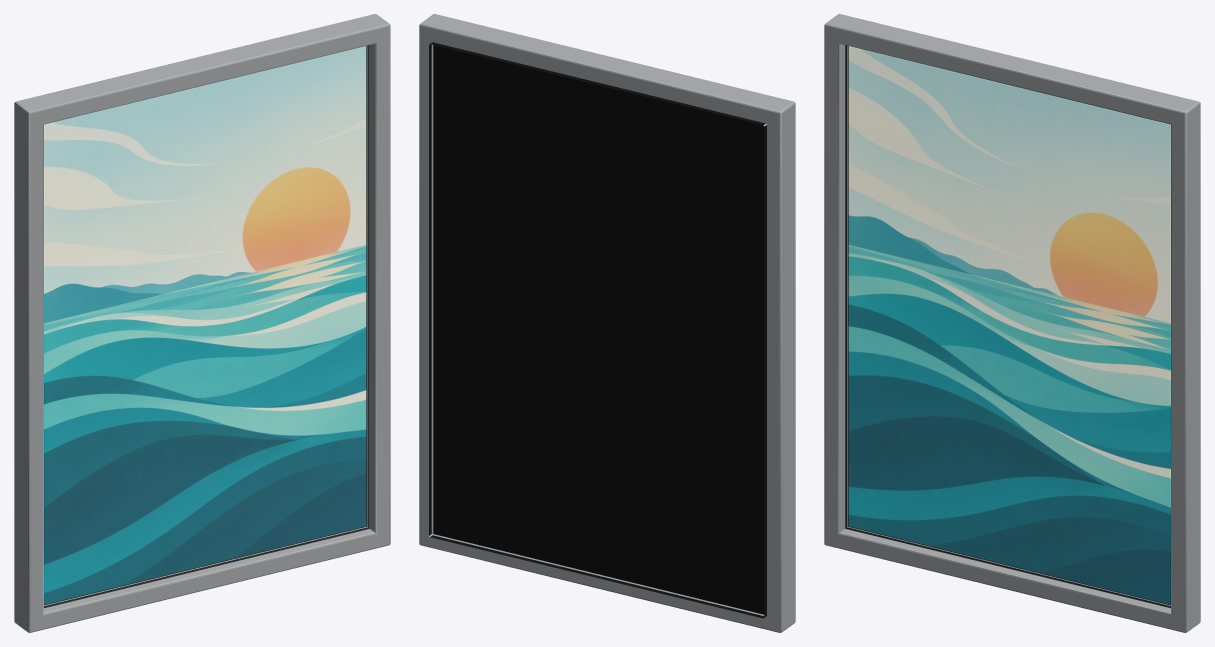
Rendered from gteki_poster_lightbox_01.glb.
The picture shows the model from 3 angles, left to right: view 1: azimuth 30°, elevation 25°; view 2: azimuth 150°, elevation 25°; view 3: azimuth 330°, elevation 25°; orthographic projection.
Visible parts, largest first — view 1: VIS_glass, VIS_faces, VIS_frame; view 2: VIS_frame; view 3: VIS_glass, VIS_faces, VIS_frame.
Part boxes in pixels (x1,y1,x2,y2): VIS_glass: (45,46,369,606); VIS_faces: (44,46,366,604); VIS_frame: (14,14,390,632); VIS_frame: (419,14,795,632); VIS_glass: (845,46,1169,606); VIS_faces: (848,46,1170,604); VIS_frame: (824,14,1200,632).
Size of what is drawn, in the model's own units: 0.8 by 1.1 by 0.07.
4 materials, 1 textured.
